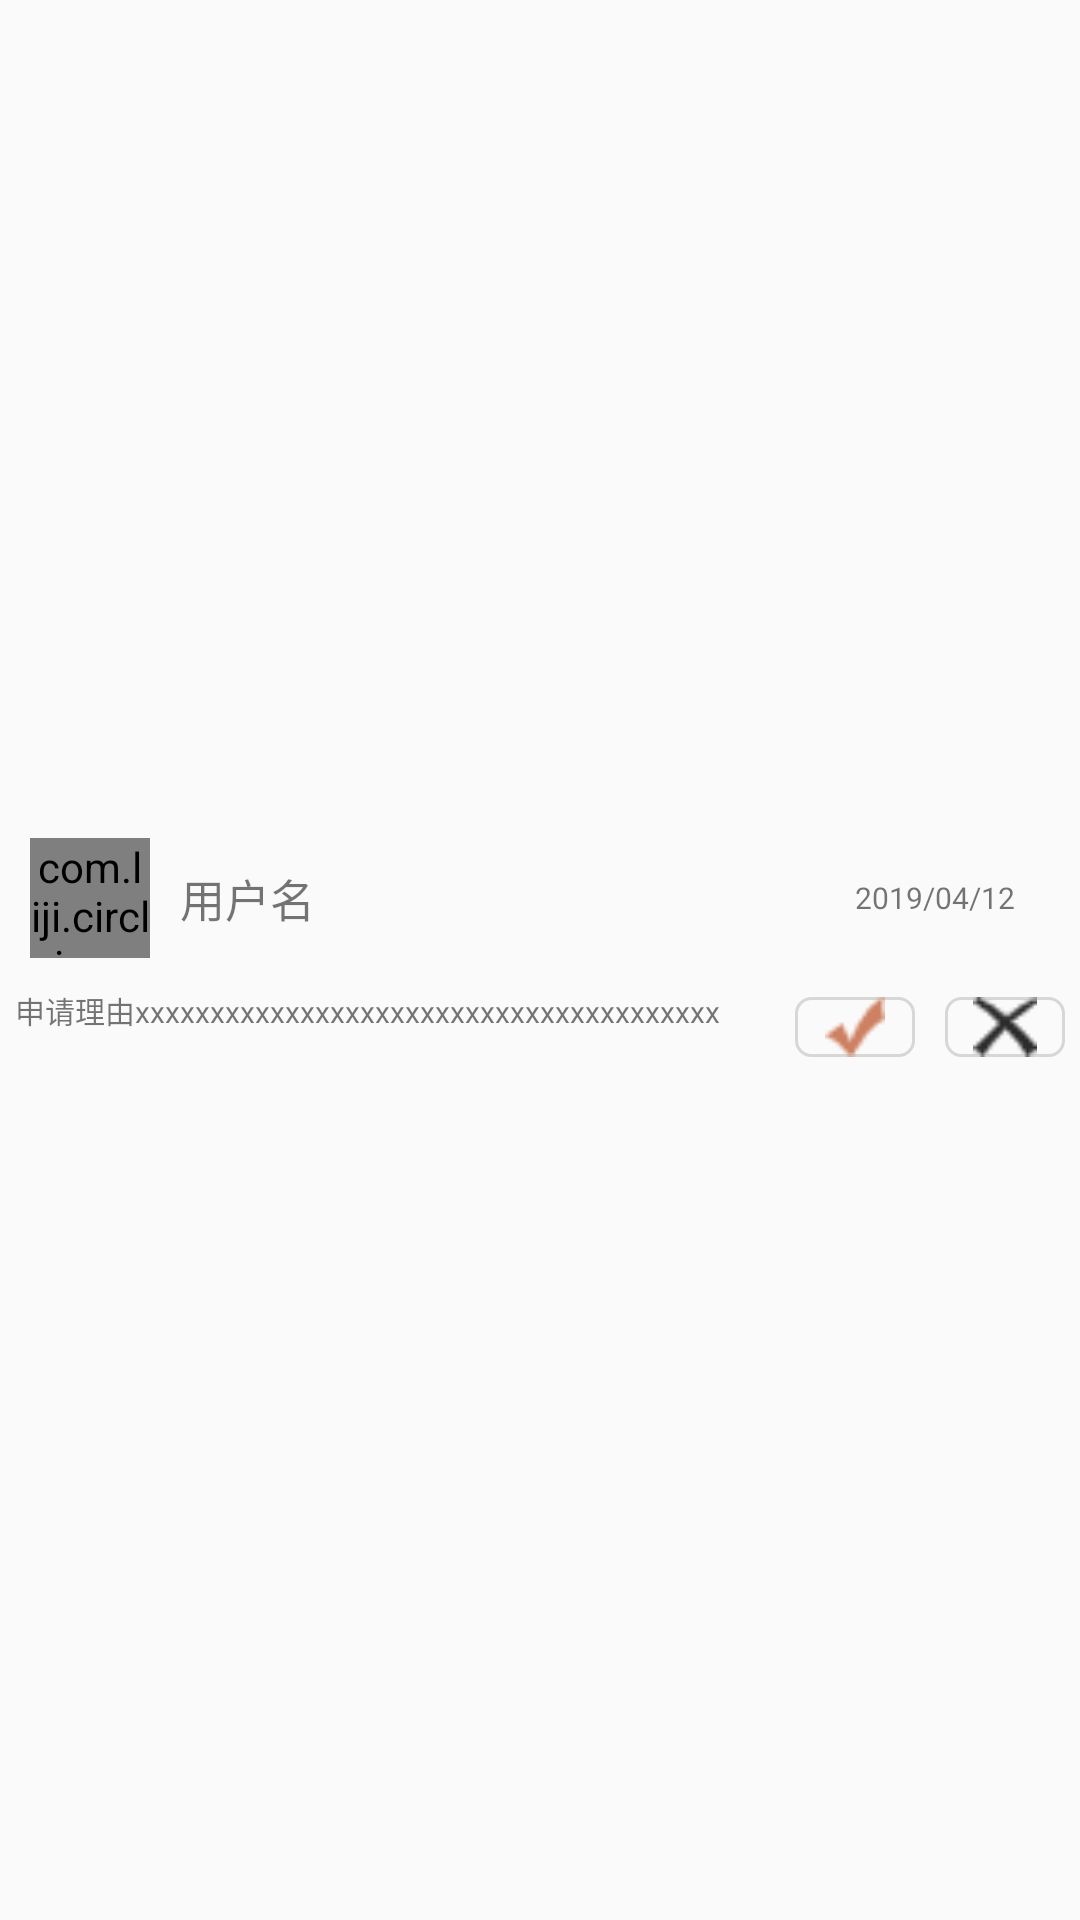

Point at icon controls on the screen. Image size 1080x1920, points as (x=x, y=y).
agree: (x=855, y=1027)
refuse: (x=1005, y=1027)
